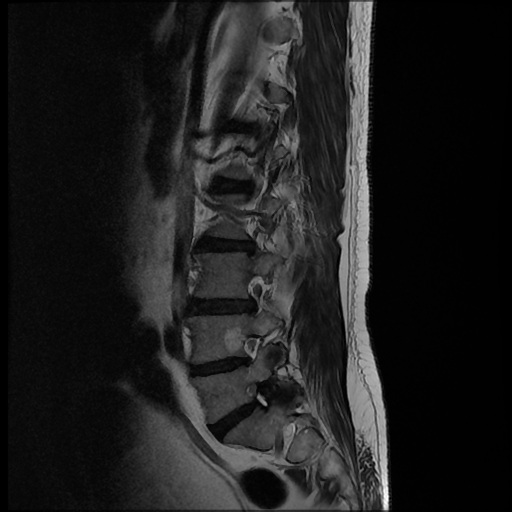RFS0: (232, 270, 273, 322), (230, 325, 274, 373)
